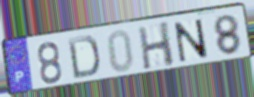0: (105, 28, 136, 75)
8: (211, 13, 243, 56), (36, 40, 63, 85)
D: (66, 35, 102, 81)
H: (136, 20, 177, 71)
N: (172, 17, 211, 64)
